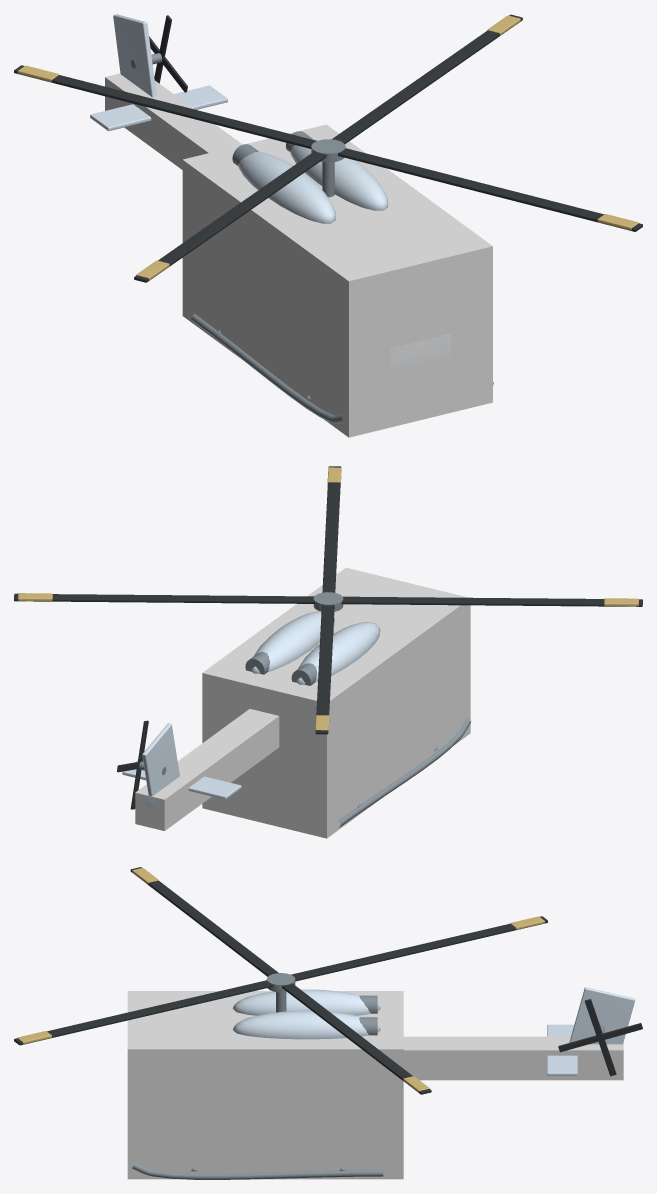
Rendered from m3_helicopter.glb.
3 renders of one model, top to bottom at view 1: azimuth 30°, elevation 25°; view 2: azimuth 150°, elevation 25°; view 3: azimuth 270°, elevation 25°, orthographic. The views are drawn at different scales.
Visible parts, largest first — view 1: COL_m3_helicopter, m3_helicopter_ir_rubber, m3_helicopter_ir_blue, COL_tail, m3_helicopter_ir_steel, m3_helicopter_ir_plaster, m3_helicopter_ir_mark; view 2: COL_m3_helicopter, m3_helicopter_ir_rubber, m3_helicopter_ir_blue, COL_tail, m3_helicopter_ir_steel, m3_helicopter_ir_mark; view 3: COL_m3_helicopter, COL_tail, m3_helicopter_ir_rubber, m3_helicopter_ir_blue, m3_helicopter_ir_steel, m3_helicopter_ir_mark.
Boxes of the visible parts, bbox=[...] form: COL_m3_helicopter: bbox=[182, 124, 492, 437]; m3_helicopter_ir_rubber: bbox=[14, 14, 642, 282]; m3_helicopter_ir_blue: bbox=[90, 14, 388, 223]; COL_tail: bbox=[105, 73, 242, 169]; m3_helicopter_ir_steel: bbox=[131, 53, 493, 423]; m3_helicopter_ir_plaster: bbox=[390, 333, 451, 372]; m3_helicopter_ir_mark: bbox=[17, 15, 638, 280]; COL_m3_helicopter: bbox=[202, 567, 470, 838]; m3_helicopter_ir_rubber: bbox=[14, 466, 642, 809]; m3_helicopter_ir_blue: bbox=[122, 611, 380, 807]; COL_tail: bbox=[135, 709, 279, 830]; m3_helicopter_ir_steel: bbox=[139, 592, 471, 827]; m3_helicopter_ir_mark: bbox=[18, 467, 638, 731]; COL_m3_helicopter: bbox=[127, 991, 403, 1179]; COL_tail: bbox=[403, 1036, 623, 1080]; m3_helicopter_ir_rubber: bbox=[14, 867, 642, 1094]; m3_helicopter_ir_blue: bbox=[232, 987, 635, 1075]; m3_helicopter_ir_steel: bbox=[132, 973, 604, 1179]; m3_helicopter_ir_mark: bbox=[17, 868, 544, 1092].
Size of the model in its own units: 10.45 by 3.7 by 12.3.
